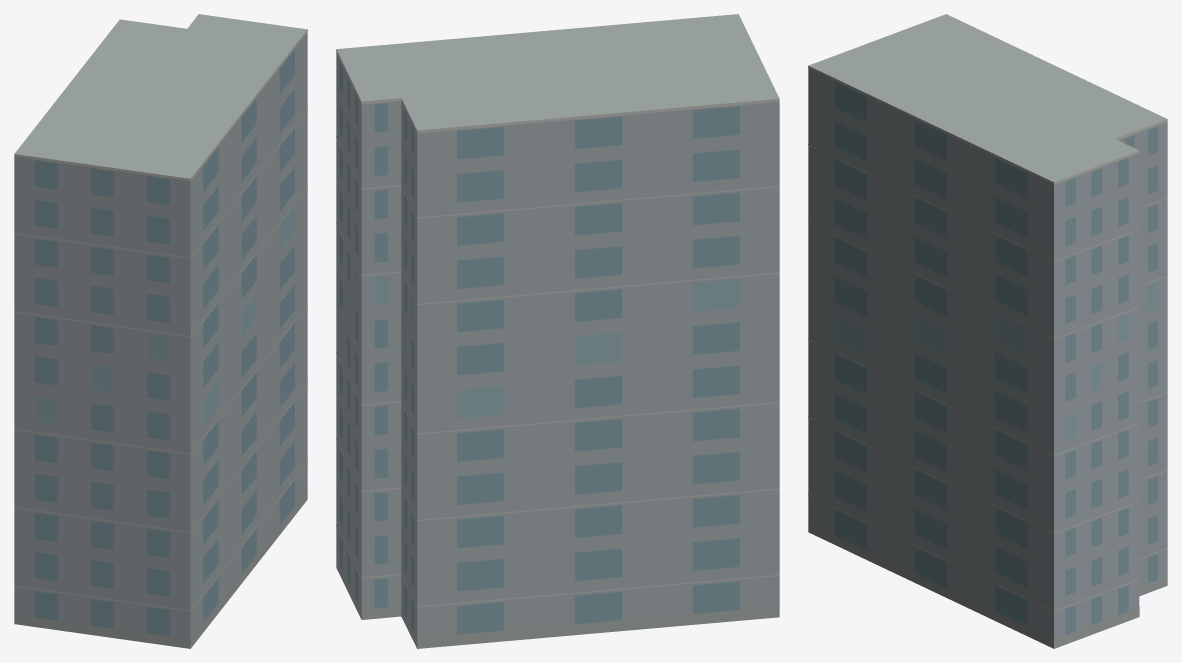
File: survey-upis-32719206.glb
The picture shows the model from 3 angles, left to right: view 1: azimuth 30°, elevation 25°; view 2: azimuth 150°, elevation 25°; view 3: azimuth 270°, elevation 25°; orthographic projection. The views are drawn at different scales.
Parts seen in each view (by area): view 1: survey-upis-32719206.tmp; view 2: survey-upis-32719206.tmp; view 3: survey-upis-32719206.tmp.
Part boxes in pixels (box(x1,y1,x2,y2)): survey-upis-32719206.tmp: box(14, 14, 307, 648); survey-upis-32719206.tmp: box(336, 14, 779, 648); survey-upis-32719206.tmp: box(808, 14, 1167, 648).
Bounding box in the file's own units: 33.61 × 43.4 × 30.32.
